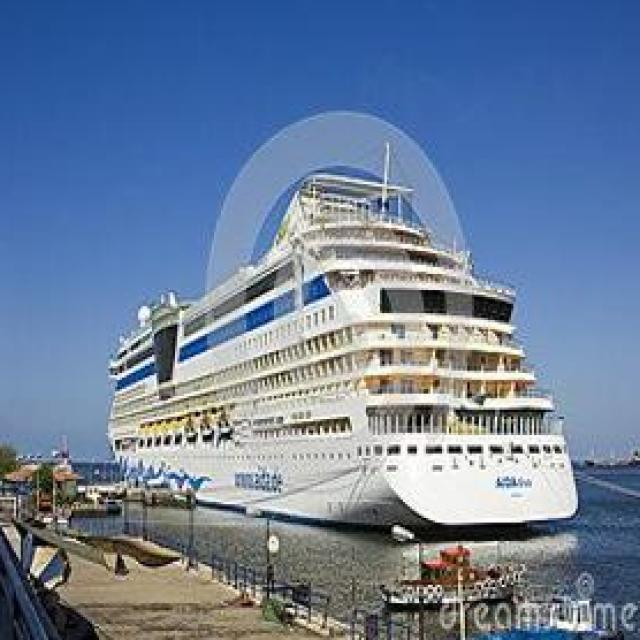houseboat: (374, 538, 524, 608)
passenger ship: (102, 212, 576, 531)
